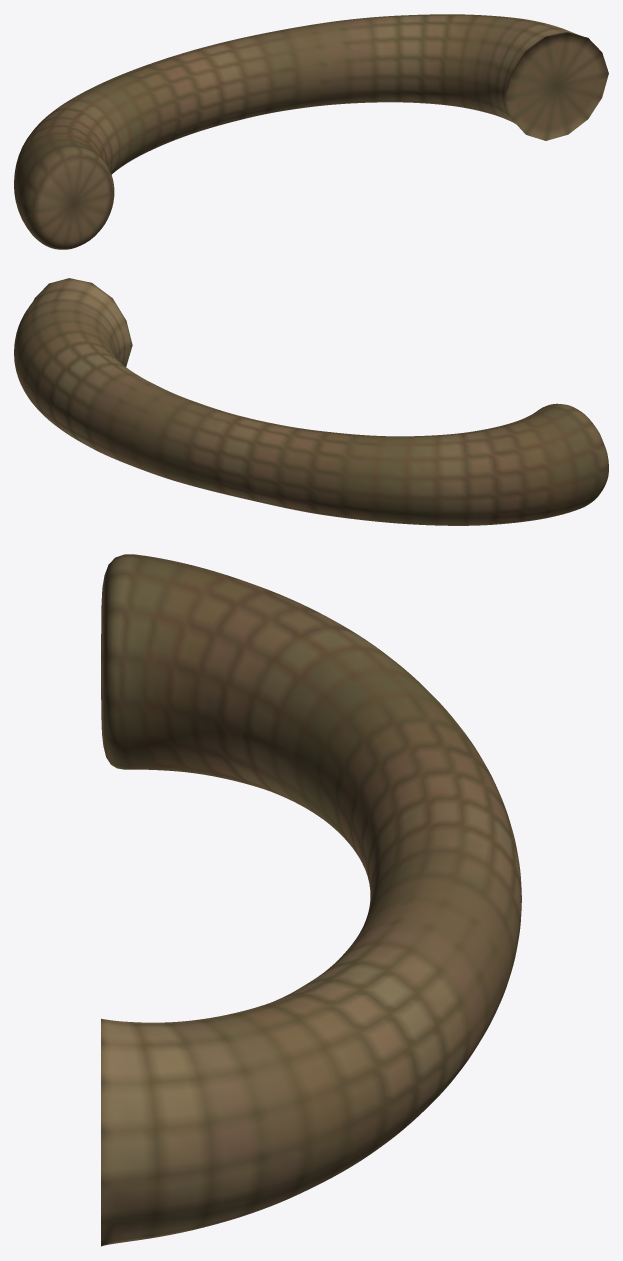
Rendered from rock_arch.glb.
3 renders of one model, top to bottom at view 1: azimuth 30°, elevation 25°; view 2: azimuth 150°, elevation 25°; view 3: azimuth 270°, elevation 25°, orthographic. The views are drawn at different scales.
Visible parts, largest first — view 1: RockArch; view 2: RockArch; view 3: RockArch.
Part boxes in pixels (x1=…): RockArch: x1=14, y1=14, x2=608, y2=249; RockArch: x1=14, y1=278, x2=608, y2=525; RockArch: x1=101, y1=554, x2=521, y2=1246.
Bounding box in the file's own units: 2.39 × 0.4113 × 0.7545.
